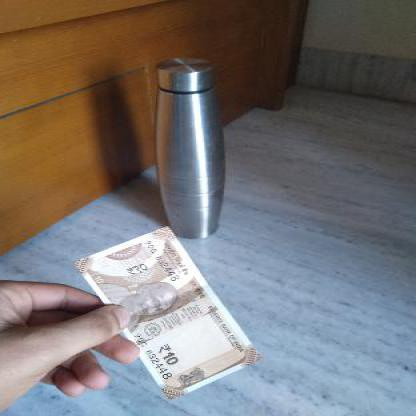New10Front: (80, 224, 256, 396)
